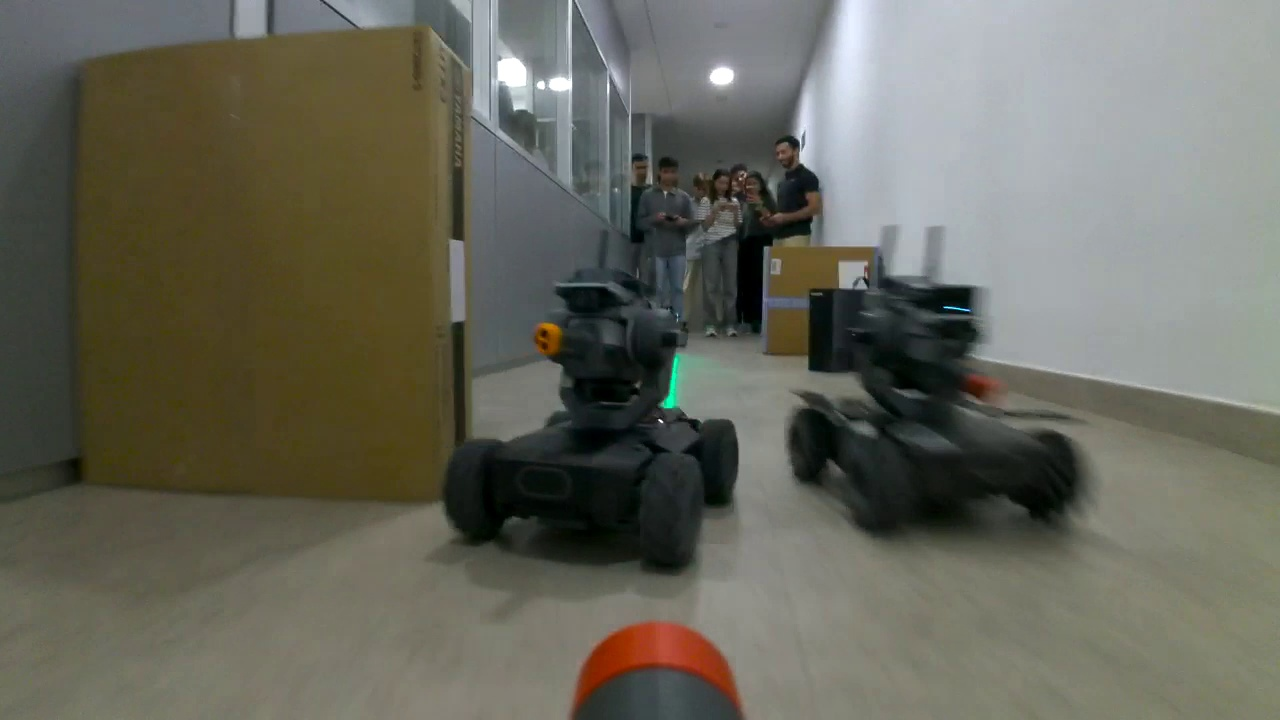robot: (439, 269, 739, 575), (788, 272, 1089, 547)
